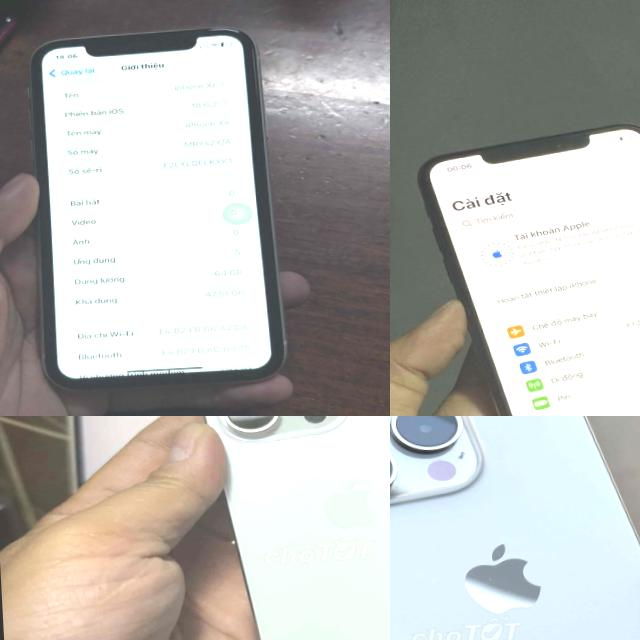gen_15: (390, 416, 640, 640), (184, 416, 390, 640)
gen_x_xs: (16, 19, 300, 402), (390, 106, 640, 416)
